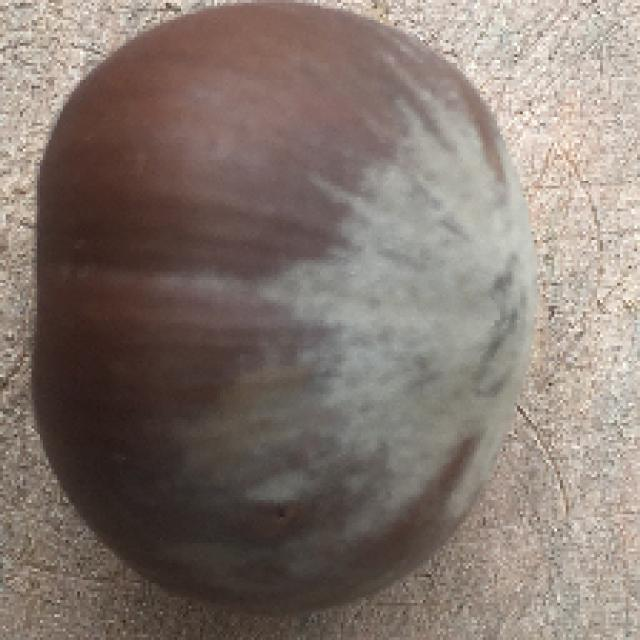qualityHazelnut: (34, 0, 536, 609)
